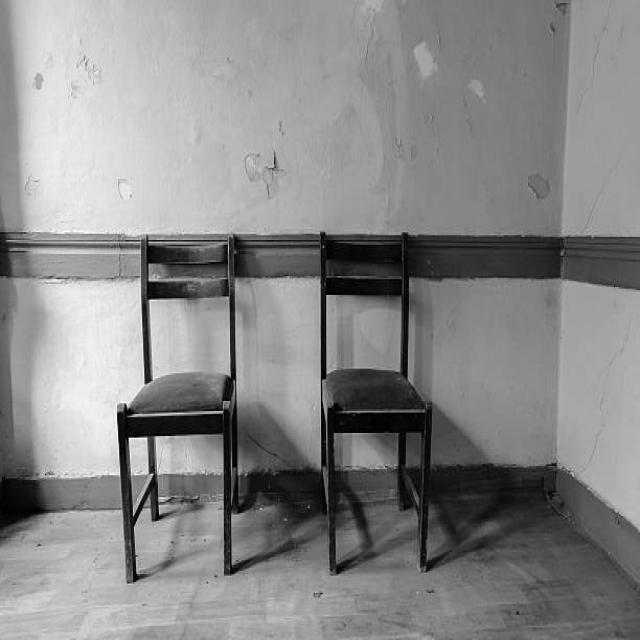peeling paint: (23, 27, 137, 206), (240, 114, 296, 206), (335, 0, 397, 83), (509, 147, 558, 214), (588, 384, 612, 451), (391, 126, 424, 172), (307, 385, 321, 423)
